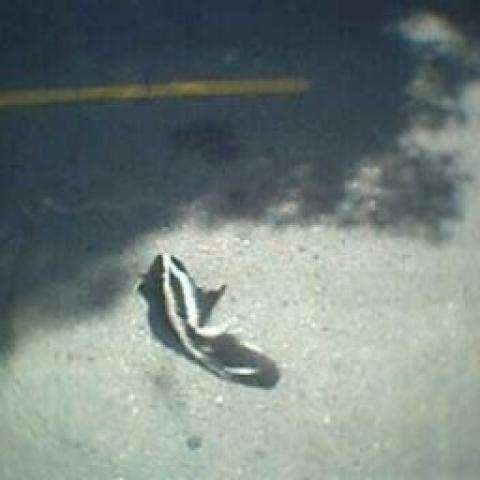small_animal: (133, 247, 281, 392)
